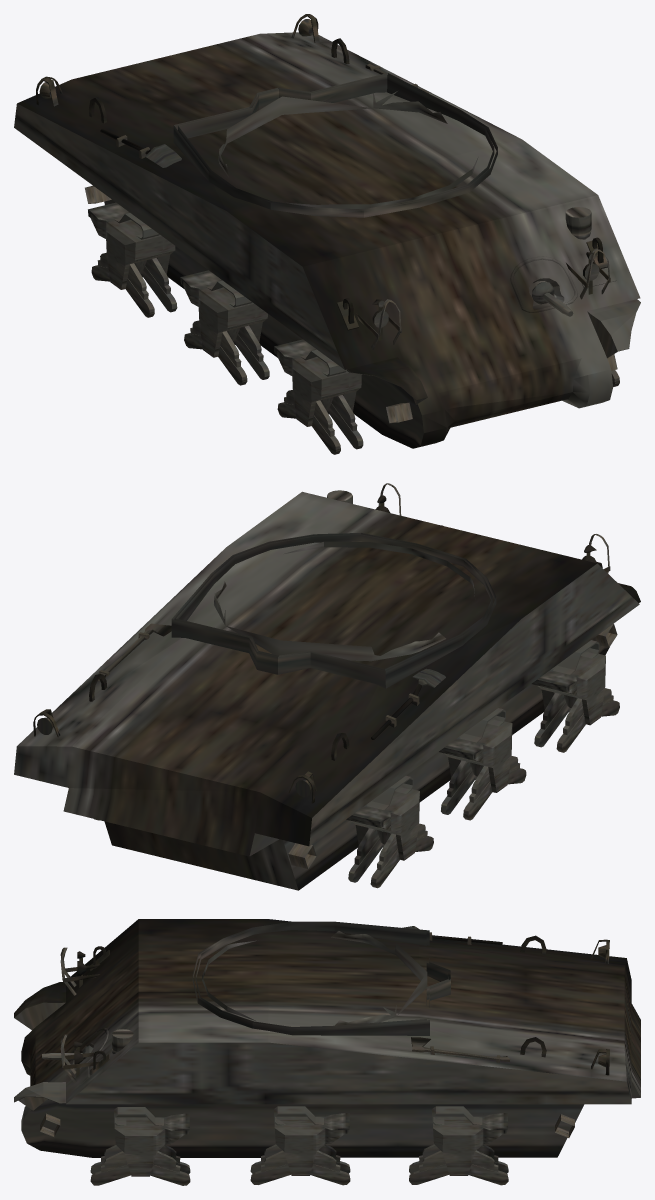
Rendered from sherman_hull_m2.obj.
3 renders of one model, top to bottom at view 1: azimuth 30°, elevation 25°; view 2: azimuth 150°, elevation 25°; view 3: azimuth 270°, elevation 25°, orthographic. The views are drawn at different scales.
Parts seen in each view (by area): view 1: sherman_hull_m2; view 2: sherman_hull_m2; view 3: sherman_hull_m2.
Part boxes in pixels (x1,y1,x2,y2): sherman_hull_m2: (14,14,640,454); sherman_hull_m2: (14,483,640,890); sherman_hull_m2: (14,919,640,1185).
Bounding box in the file's own units: 2.72 × 1.63 × 5.85.
Materials: 1 (1 with a texture image).
